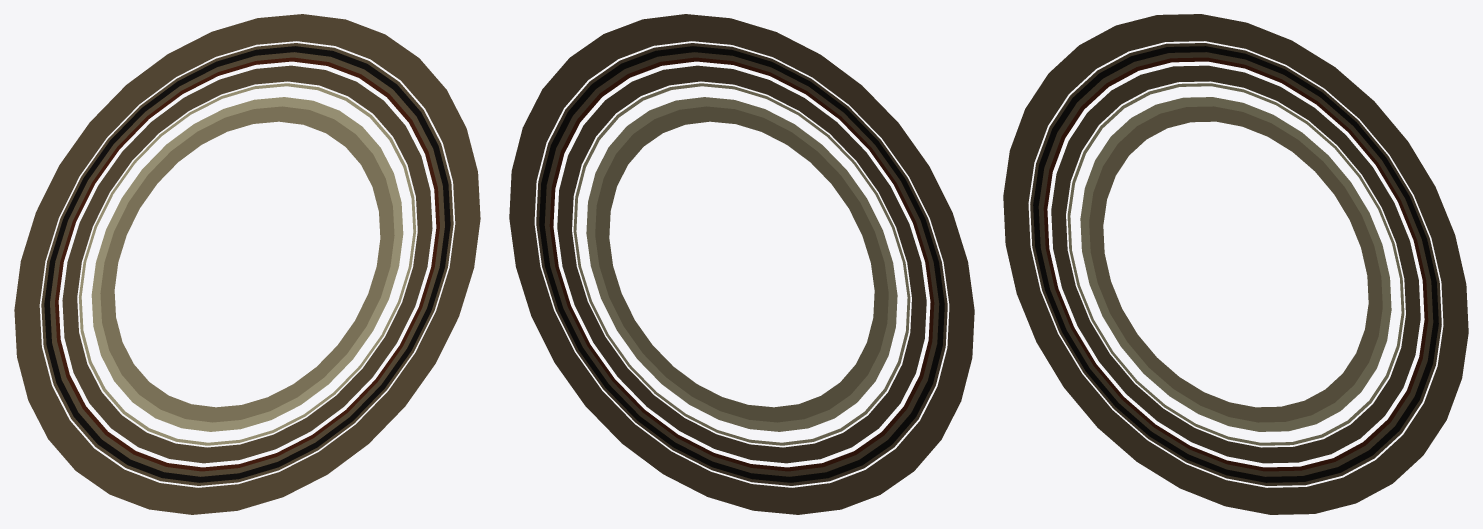
File: saturnring.obj
3 renders of one model, left to right at view 1: azimuth 30°, elevation 25°; view 2: azimuth 150°, elevation 25°; view 3: azimuth 330°, elevation 25°, orthographic.
Visible parts, largest first — view 1: Circle; view 2: Circle; view 3: Circle.
Boxes of the visible parts, x1,y1,x2,y2 form: Circle: (14,14,480,514); Circle: (509,14,974,514); Circle: (1003,14,1468,514).
Size of the model in its own units: 4.62 by 4.62 by 0.0231.
